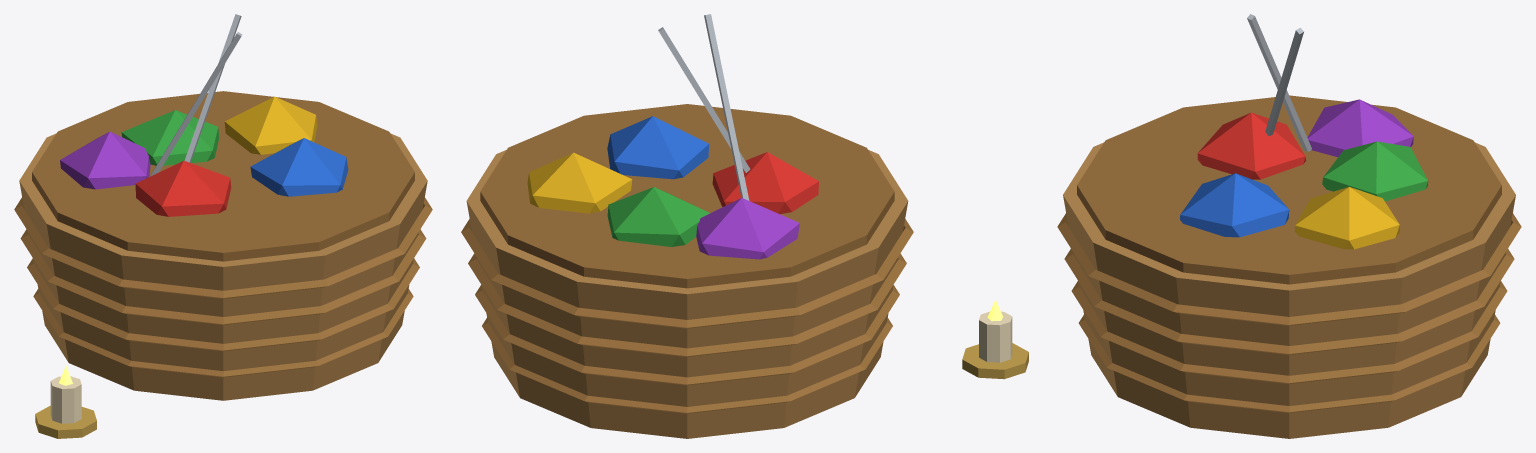
File: yarnBasket.fbx
The picture shows the model from 3 angles, left to right: view 1: azimuth 30°, elevation 25°; view 2: azimuth 150°, elevation 25°; view 3: azimuth 270°, elevation 25°; orthographic projection. The views are drawn at different scales.
Visible parts, largest first — view 1: yarnBasket; view 2: yarnBasket; view 3: yarnBasket.
Part boxes in pixels (x1,y1,x2,y2): yarnBasket: [14, 14, 432, 438]; yarnBasket: [461, 14, 1028, 438]; yarnBasket: [1057, 14, 1521, 438].
Bounding box in the file's own units: 3.11 × 2.11 × 2.62.
